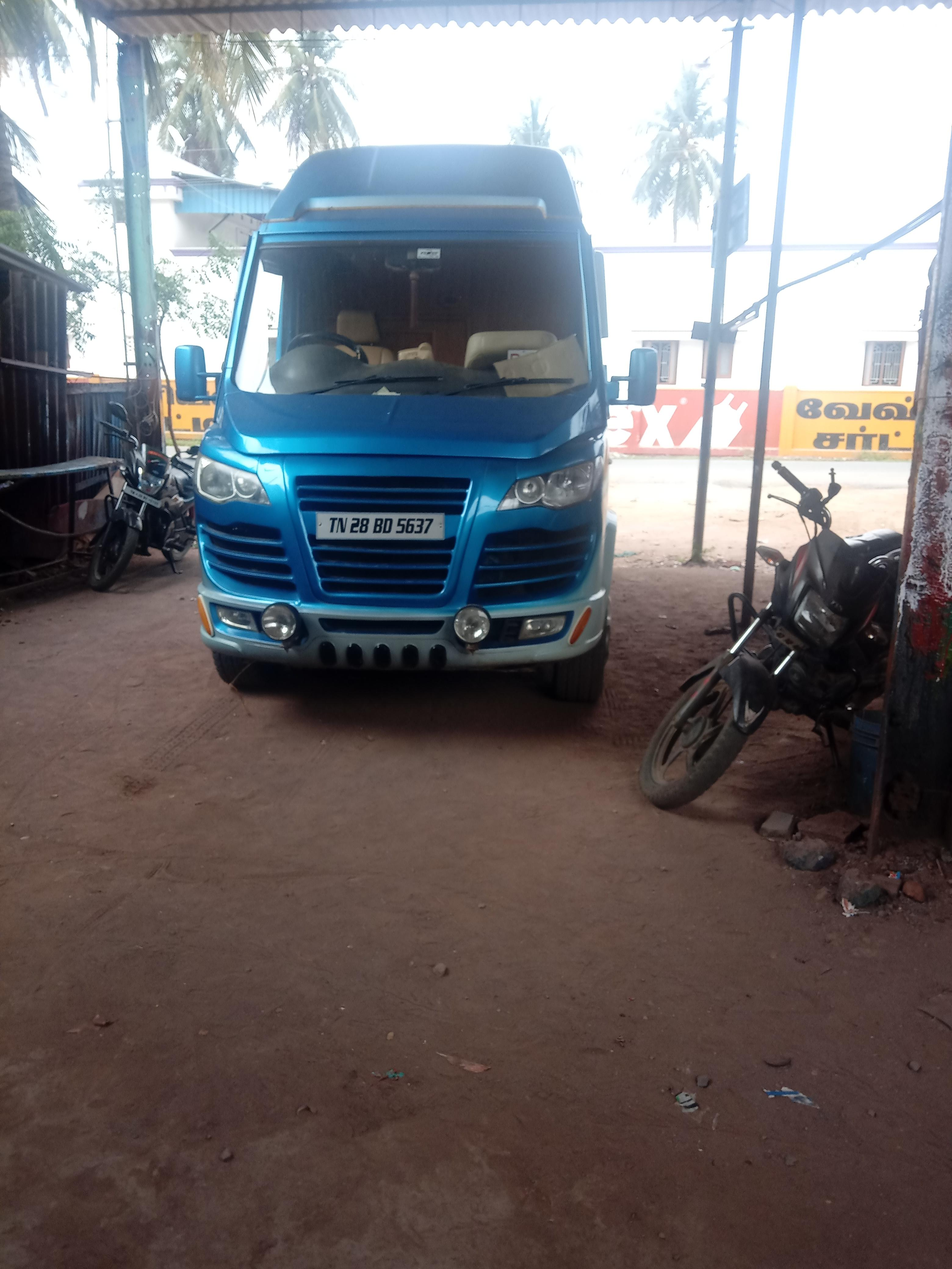Non-emergency: (123, 124, 649, 736)
